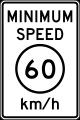Speed Limit -60-: (21, 56, 59, 81)
